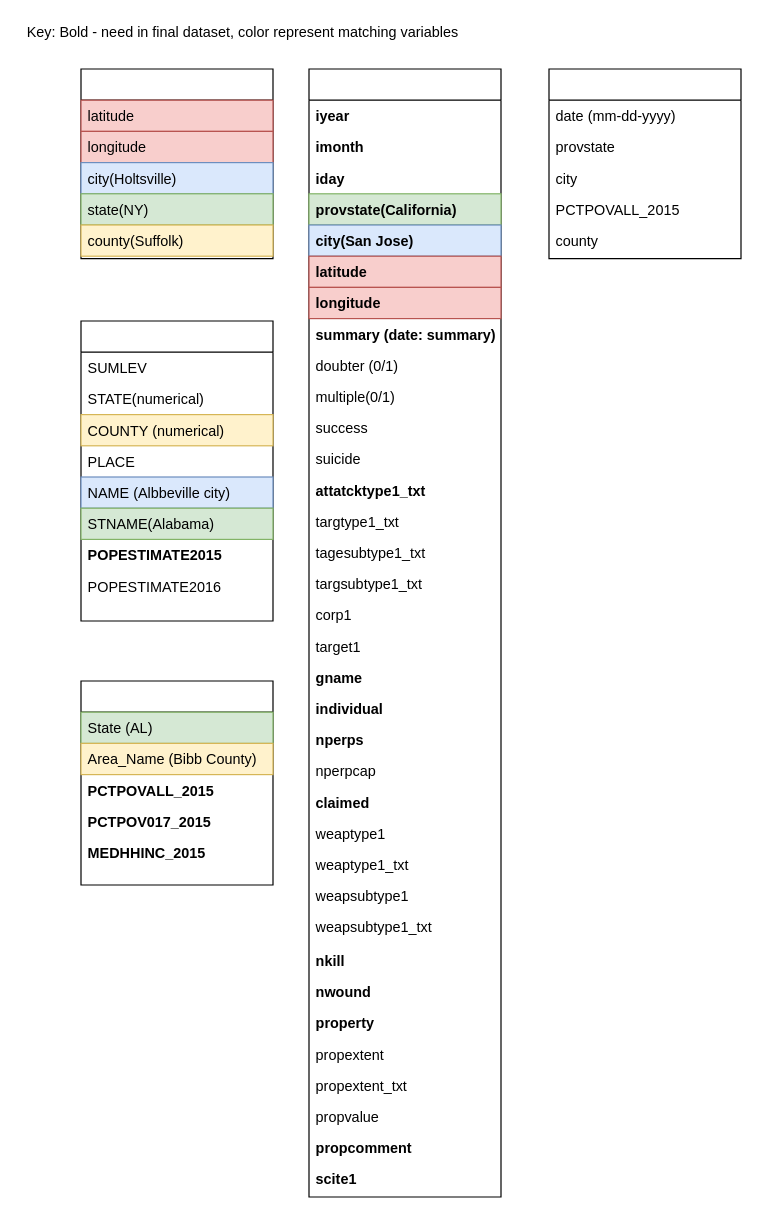
The diagram is 762 pixels wide and 1218 high, and some of its shapes have lost their labels. Each missing label, with the box of its shape:
county_city: (80, 68, 273, 259)
final dataset: (548, 68, 741, 259)
gtd: (308, 68, 501, 1197)
population: (80, 320, 273, 621)
poverty: (80, 680, 273, 885)
